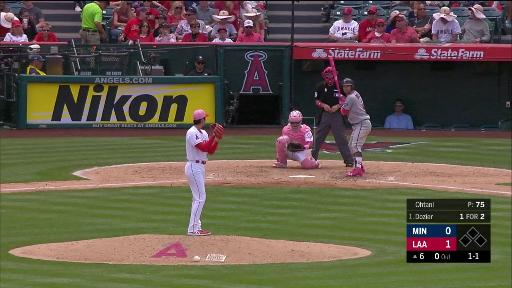pitcher: (184, 109, 224, 236)
